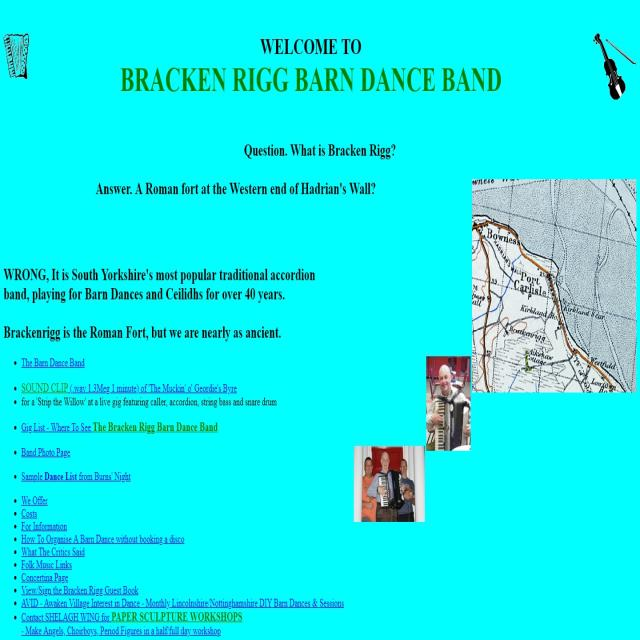heading: (118, 29, 504, 99)
image: (472, 178, 635, 395), (352, 445, 424, 524), (588, 25, 639, 111), (426, 356, 471, 449), (1, 28, 32, 88)
link: (20, 595, 345, 609), (70, 380, 239, 397), (22, 623, 222, 636), (21, 534, 188, 544), (21, 583, 140, 595), (22, 472, 132, 484), (20, 610, 110, 622), (19, 421, 92, 434), (20, 357, 86, 371), (20, 557, 73, 571), (20, 445, 72, 459), (20, 546, 86, 556), (20, 520, 68, 532), (20, 571, 70, 582), (20, 493, 50, 506), (20, 507, 39, 519)
text: (3, 266, 319, 304), (94, 179, 381, 201), (2, 326, 285, 343), (240, 142, 400, 162), (93, 418, 218, 435), (111, 608, 243, 624)
